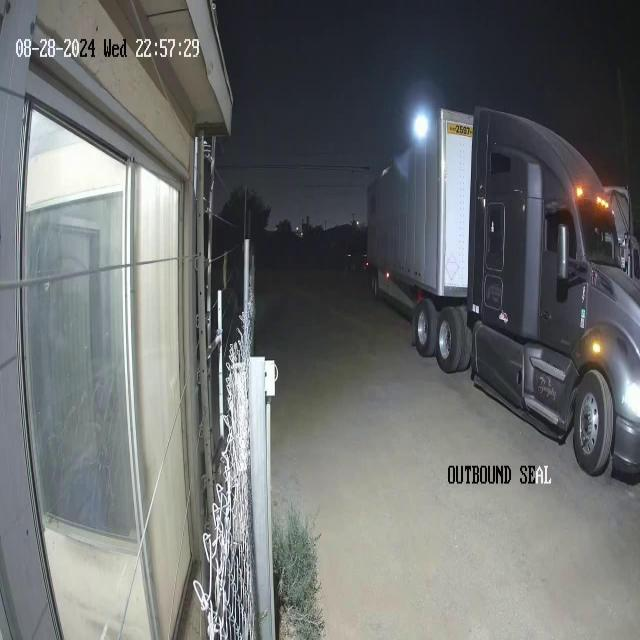TRUCK_CONTAINER: (365, 103, 639, 478)
